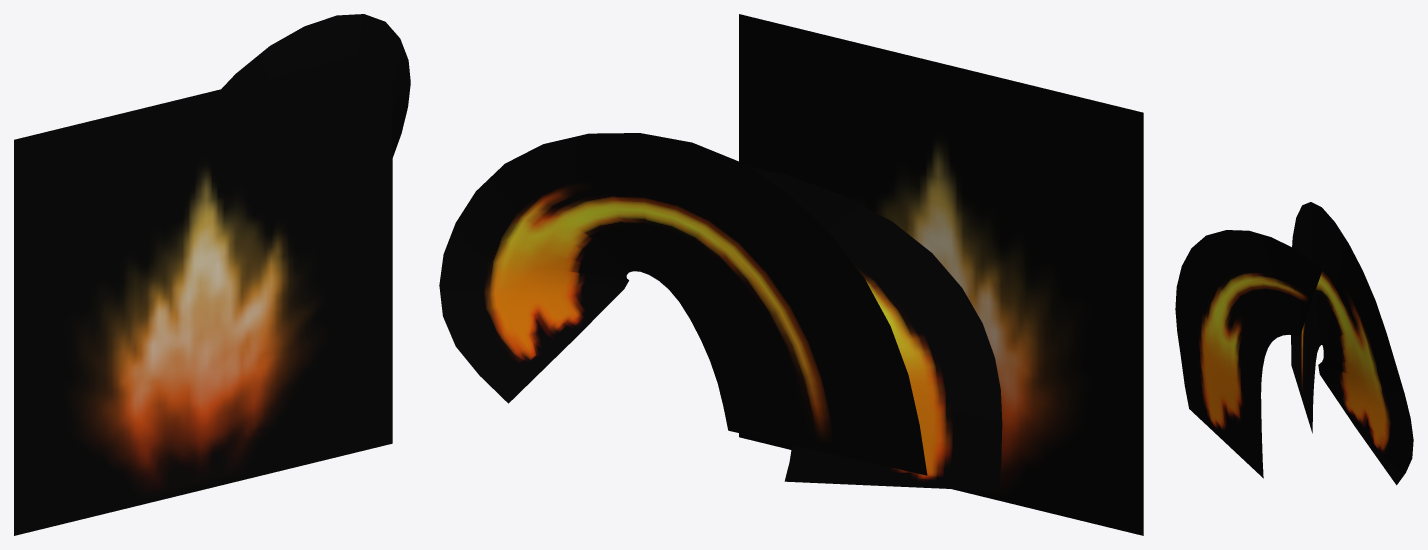
The model's file is effect_sunquan_attack_4.FBX.
The picture shows the model from 3 angles, left to right: view 1: azimuth 30°, elevation 25°; view 2: azimuth 150°, elevation 25°; view 3: azimuth 270°, elevation 25°; orthographic projection. The views are drawn at different scales.
Parts seen in each view (by area): view 1: effect_sunquan_4_attack_3_1, effect_sunquan_4_attack_2_1; view 2: effect_sunquan_4_attack_3_1, effect_sunquan_4_attack_2_1, effect_sunquan_4_attack_1_1; view 3: effect_sunquan_4_attack_1_1, effect_sunquan_4_attack_2_1.
Boxes of the visible parts, bbox=[...] form: effect_sunquan_4_attack_3_1: bbox=[14, 47, 392, 535]; effect_sunquan_4_attack_2_1: bbox=[221, 14, 410, 157]; effect_sunquan_4_attack_3_1: bbox=[739, 14, 1143, 535]; effect_sunquan_4_attack_2_1: bbox=[439, 133, 927, 475]; effect_sunquan_4_attack_1_1: bbox=[748, 166, 1002, 490]; effect_sunquan_4_attack_1_1: bbox=[1175, 230, 1322, 478]; effect_sunquan_4_attack_2_1: bbox=[1291, 202, 1413, 485].
Size of the model in its own units: 387 by 279 by 171.
